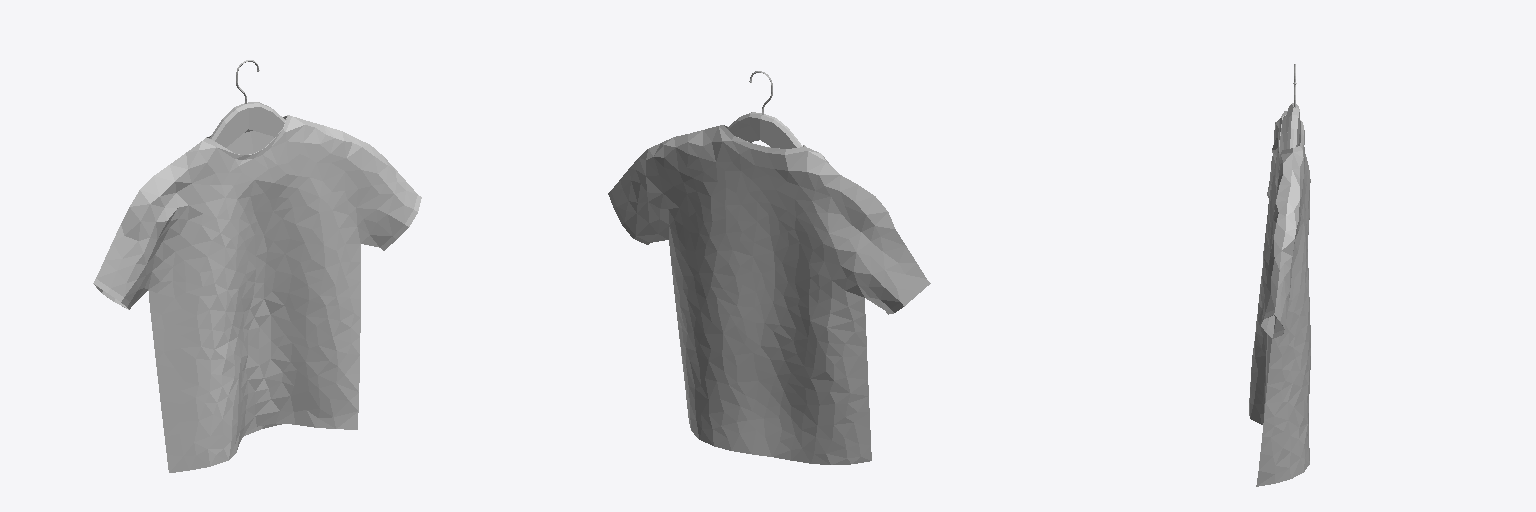
The model's file is Shirt on Hanger.obj.
3 views of the same model, side by side, from view 1: azimuth 30°, elevation 25°; view 2: azimuth 150°, elevation 25°; view 3: azimuth 270°, elevation 25° (orthographic).
Parts seen in each view (by area): view 1: ShirtOnHanger; view 2: ShirtOnHanger; view 3: ShirtOnHanger.
Boxes of the visible parts, x1,y1,x2,y2 form: ShirtOnHanger: [93, 60, 421, 472]; ShirtOnHanger: [608, 71, 930, 464]; ShirtOnHanger: [1249, 64, 1310, 486].
Bounding box in the file's own units: 20.22 × 22.59 × 3.38.